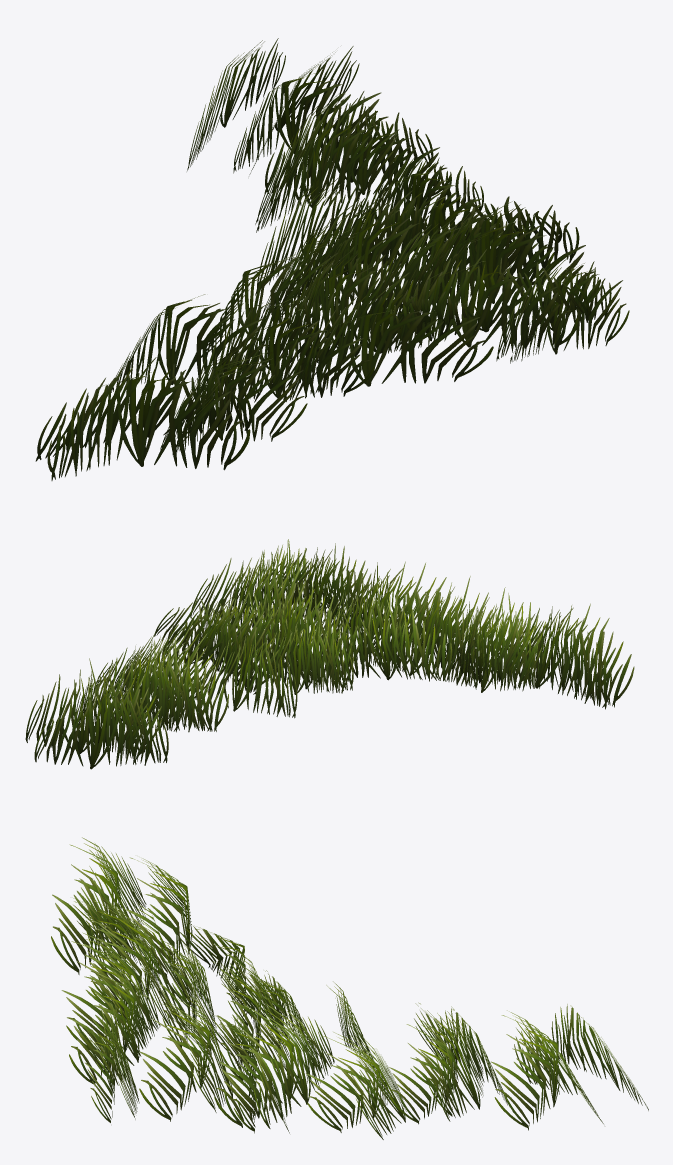
The model's file is grassKit_front_corner_ul.fbx.
3 views of the same model, one above another, from view 1: azimuth 30°, elevation 25°; view 2: azimuth 150°, elevation 25°; view 3: azimuth 270°, elevation 25° (orthographic). The views are drawn at different scales.
Visible parts, largest first — view 1: grassKit_front_corner_ul; view 2: grassKit_front_corner_ul; view 3: grassKit_front_corner_ul.
Part boxes in pixels (x1,y1,x2,y2): grassKit_front_corner_ul: (35, 38, 629, 480); grassKit_front_corner_ul: (25, 539, 634, 769); grassKit_front_corner_ul: (51, 837, 648, 1139).
Bounding box in the file's own units: 4.59 × 1.2 × 4.81.
